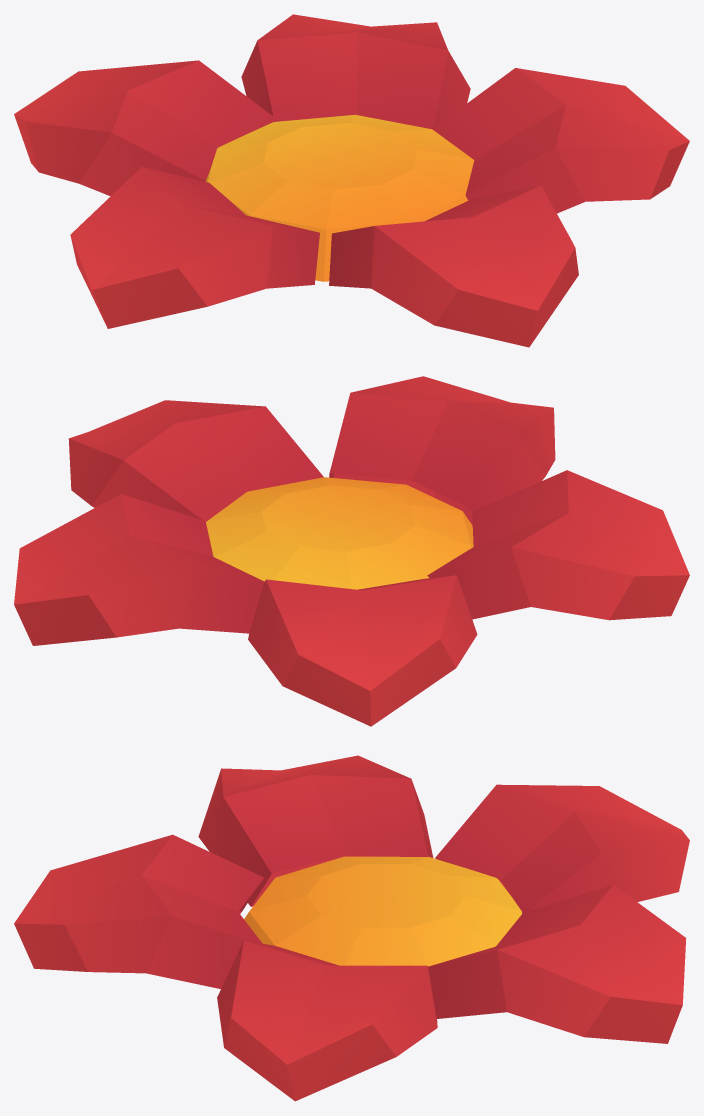
The model's file is Flower5.glb.
The picture shows the model from 3 angles, top to bottom: view 1: azimuth 30°, elevation 25°; view 2: azimuth 150°, elevation 25°; view 3: azimuth 270°, elevation 25°; orthographic projection.
Parts seen in each view (by area): view 1: Flower5; view 2: Flower5; view 3: Flower5.
Boxes of the visible parts, bbox=[...] form: Flower5: bbox=[14, 14, 689, 347]; Flower5: bbox=[14, 376, 689, 726]; Flower5: bbox=[14, 755, 689, 1101].
Bounding box in the file's own units: 0.6751 × 0.0987 × 0.655.
1 material, 1 textured.
